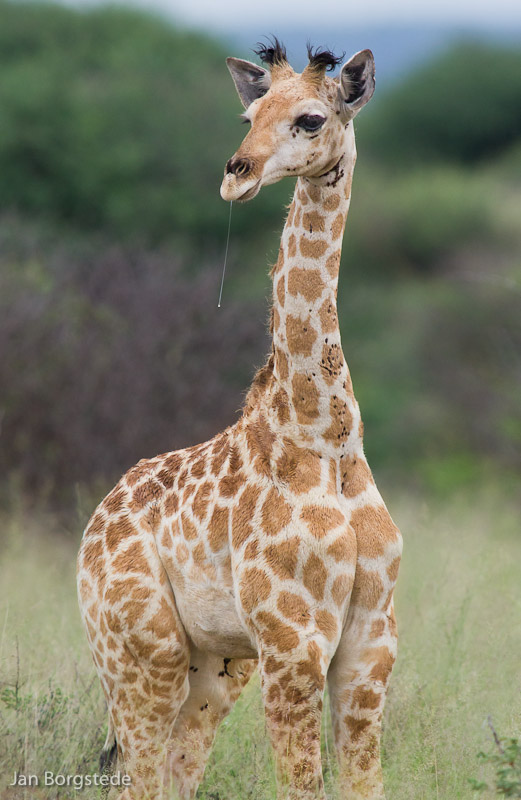giraffe: (90, 32, 450, 767)
